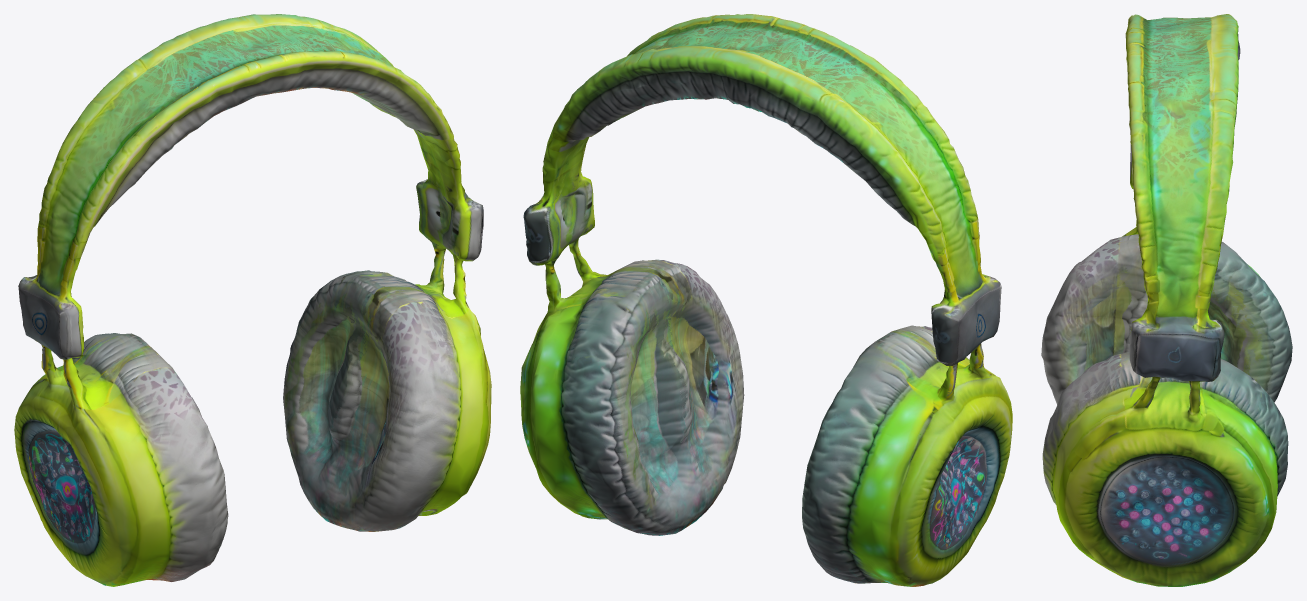
File: Headphones.fbx
3 renders of one model, left to right at view 1: azimuth 30°, elevation 25°; view 2: azimuth 150°, elevation 25°; view 3: azimuth 270°, elevation 25°, orthographic. The views are drawn at different scales.
Visible parts, largest first — view 1: Mesh_0; view 2: Mesh_0; view 3: Mesh_0.
Boxes of the visible parts, x1=… form: Mesh_0: x1=14, y1=14, x2=491, y2=586; Mesh_0: x1=520, y1=14, x2=1012, y2=586; Mesh_0: x1=1041, y1=14, x2=1292, y2=586.
Size of the model in its own units: 108 by 120 by 57.
Materials: 1 (1 with a texture image).
